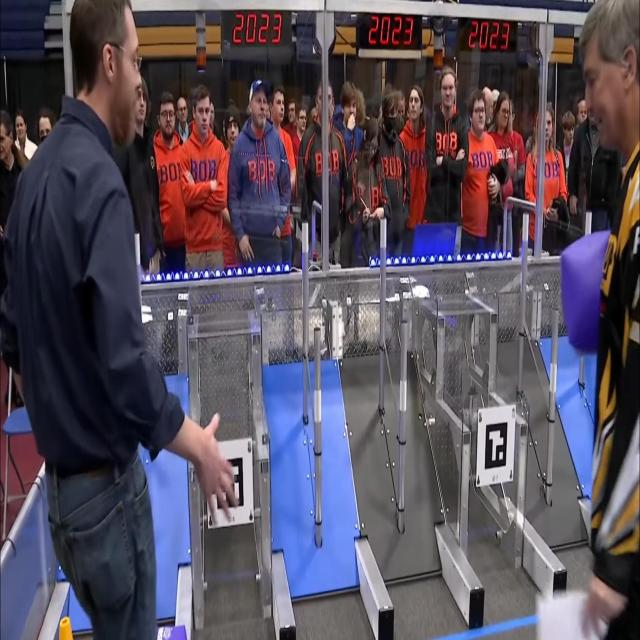frc_cone: (57, 616, 73, 640)
frc_cube: (553, 225, 613, 350), (152, 616, 192, 640)
